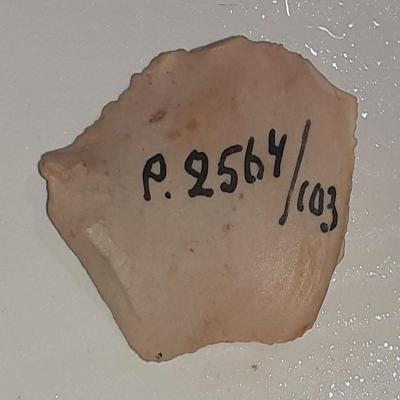archeology: (38, 36, 360, 364)
